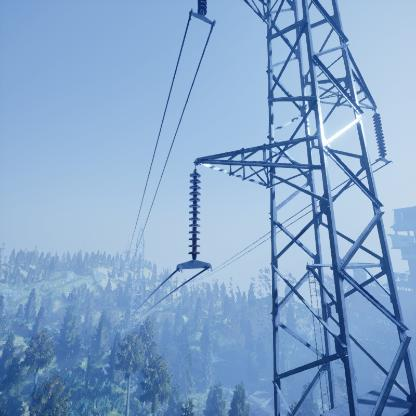insulator: (187, 169, 203, 262), (371, 112, 388, 159)
